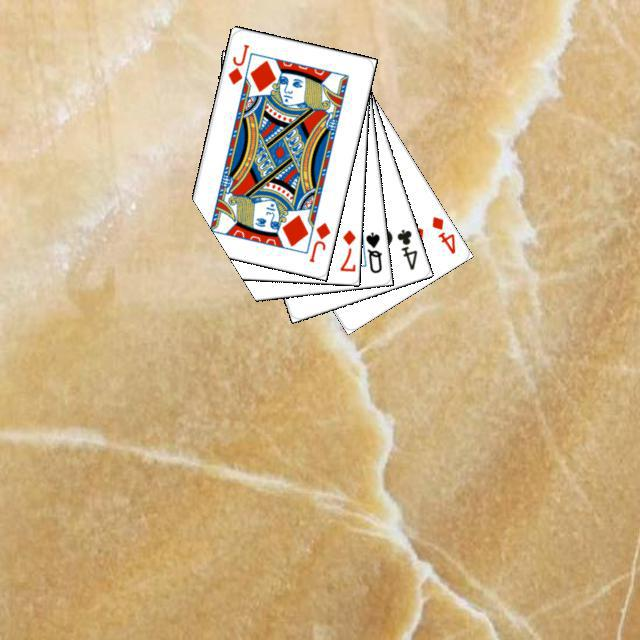4c: (392, 224, 419, 272)
4d: (427, 211, 457, 256)
7d: (335, 225, 357, 273)
Jd: (304, 217, 332, 264), (223, 39, 251, 86)
Qs: (361, 227, 384, 275)
